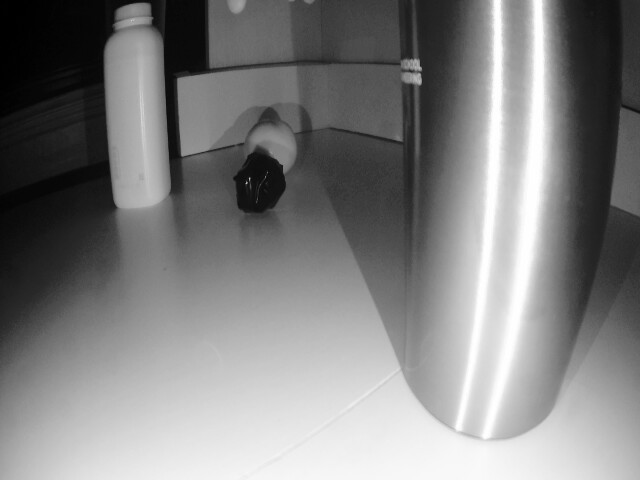silver: (232, 143, 299, 215)
